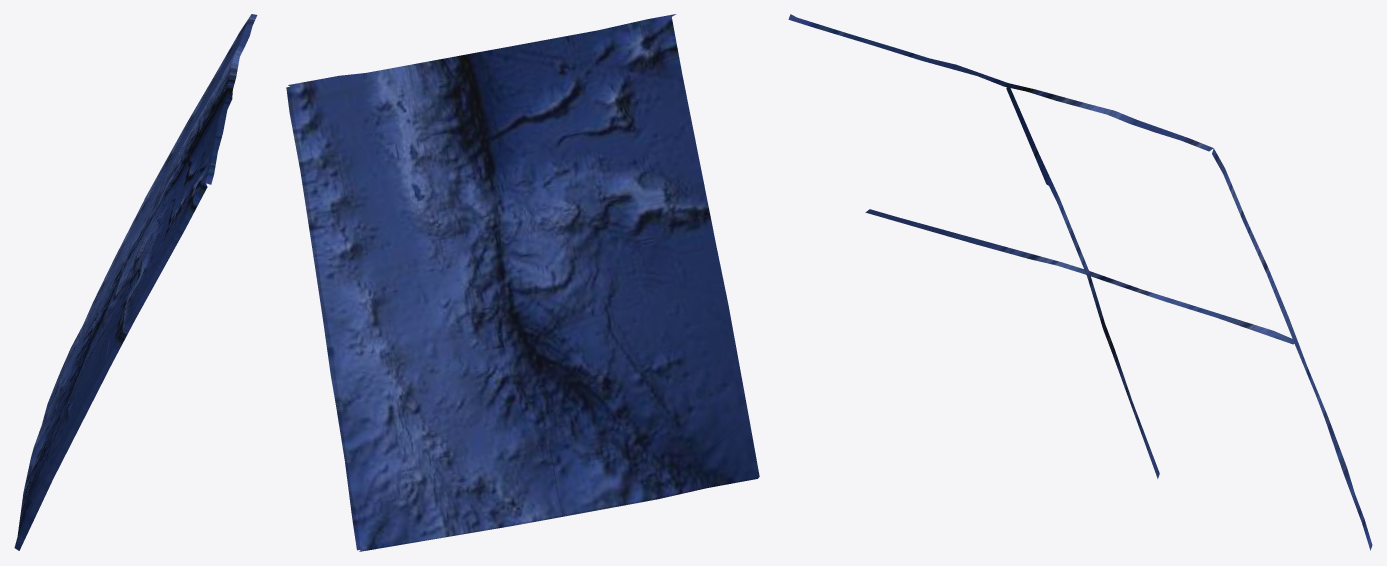
The picture shows the model from 3 angles, left to right: view 1: azimuth 30°, elevation 25°; view 2: azimuth 150°, elevation 25°; view 3: azimuth 270°, elevation 25°; orthographic projection. The views are drawn at different scales.
Bounding box in the file's own units: 557812 × 574790 × 623928.
1 material, 1 textured.
